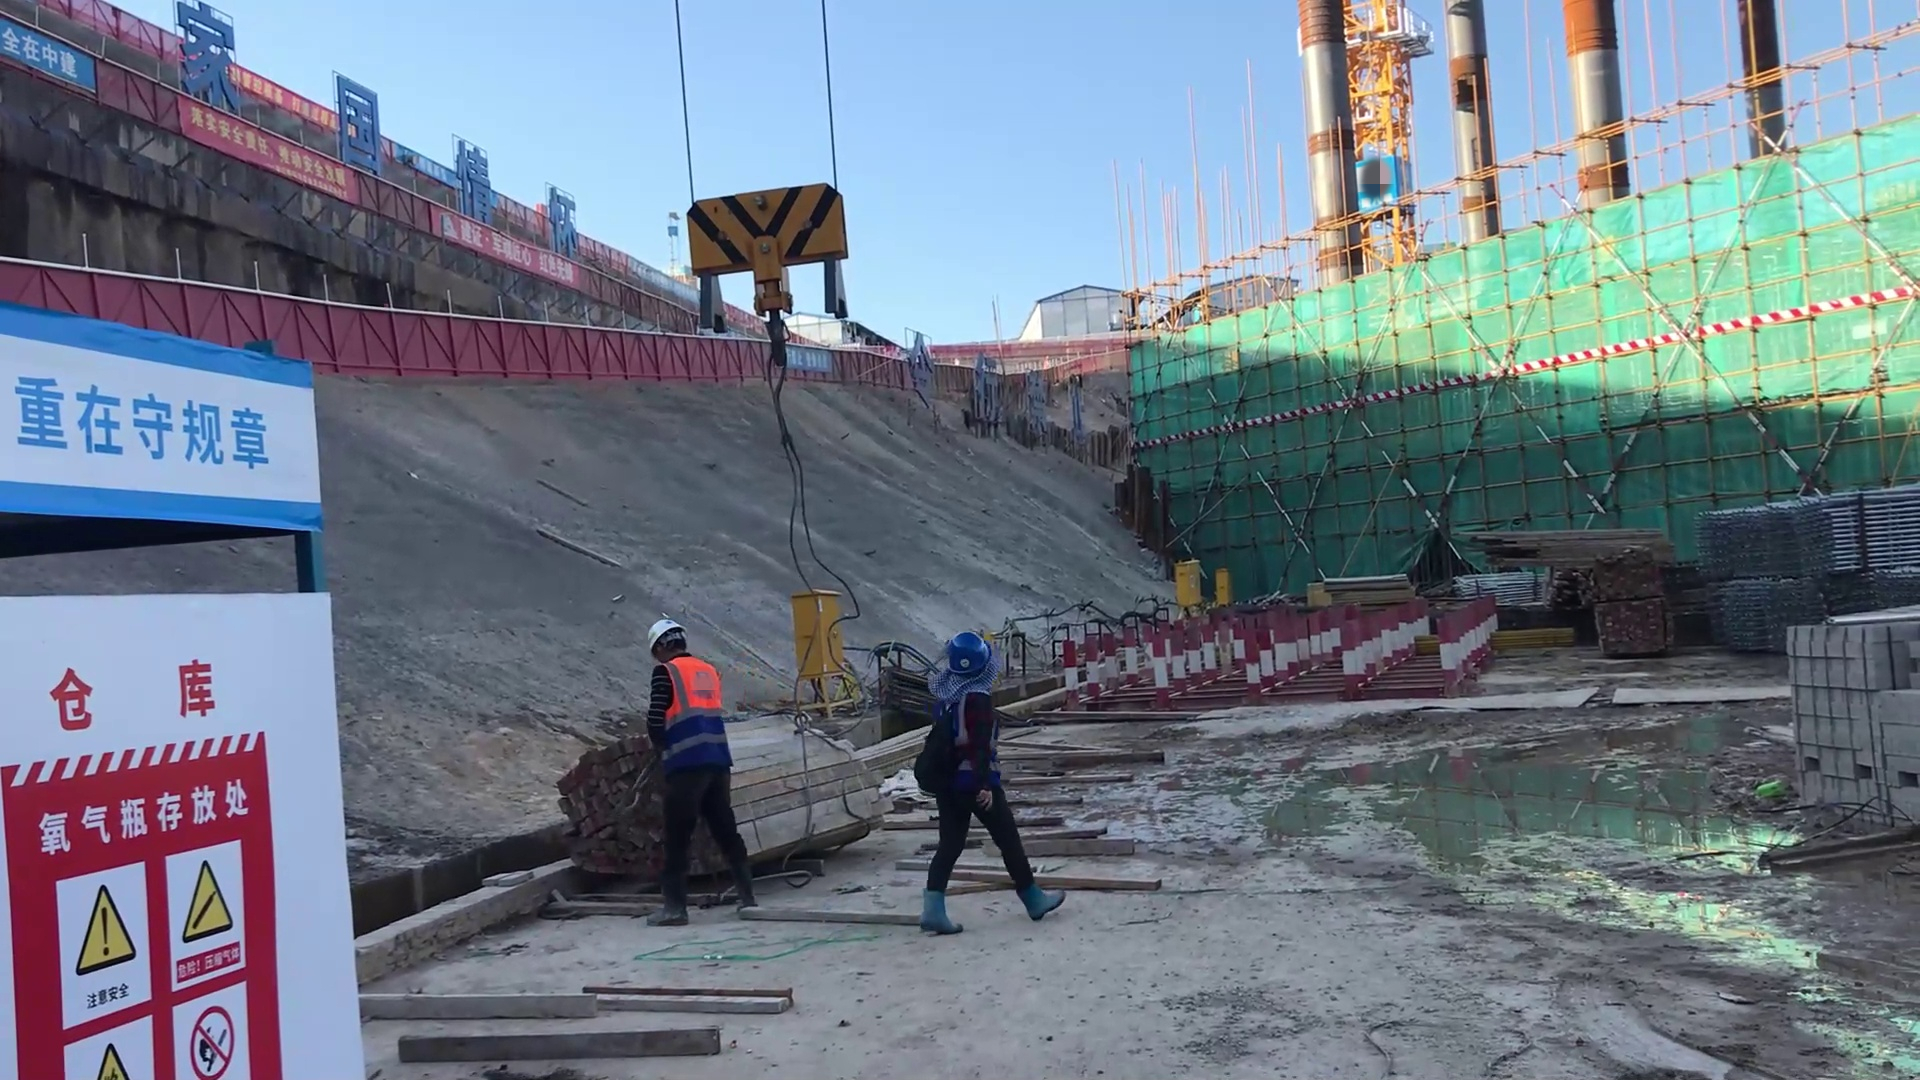brick: (1764, 593, 1920, 849)
ebox: (786, 594, 851, 685), (1173, 562, 1205, 612), (1212, 569, 1231, 613)
fence: (297, 300, 567, 385), (566, 323, 745, 378)
helmet: (929, 629, 990, 684), (641, 612, 694, 661)
hook: (686, 179, 858, 338)
person: (927, 629, 1068, 933), (639, 613, 754, 931)
scaffold: (1684, 492, 1920, 588)
slogan: (25, 748, 337, 1080), (8, 375, 297, 497), (174, 116, 371, 226), (1, 22, 122, 109)
vest: (664, 653, 717, 711)
wood: (558, 730, 641, 915), (1459, 523, 1681, 586)
